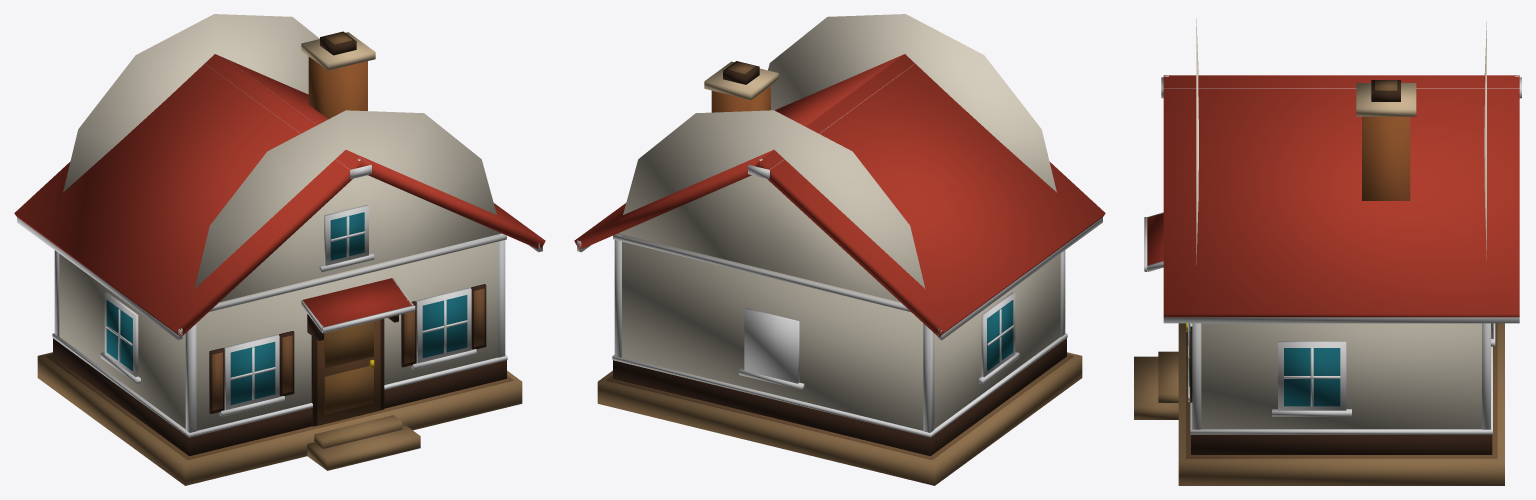
File: farmhouse.glb
The picture shows the model from 3 angles, left to right: view 1: azimuth 30°, elevation 25°; view 2: azimuth 150°, elevation 25°; view 3: azimuth 270°, elevation 25°; orthographic projection. The views are drawn at different scales.
Visible parts, largest first — view 1: farmhouse; view 2: farmhouse; view 3: farmhouse.
Boxes of the visible parts, x1,y1,x2,y2 form: farmhouse: (14, 14, 545, 485); farmhouse: (574, 14, 1105, 485); farmhouse: (1134, 18, 1521, 485).
Size of the model in its own units: 6.37 by 5.4 by 5.23.
